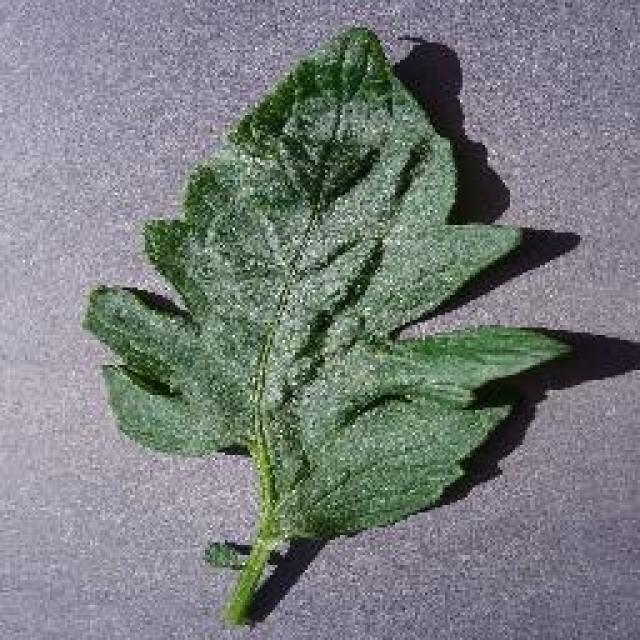Tomato Septoria spot leaf: (81, 22, 569, 542)
